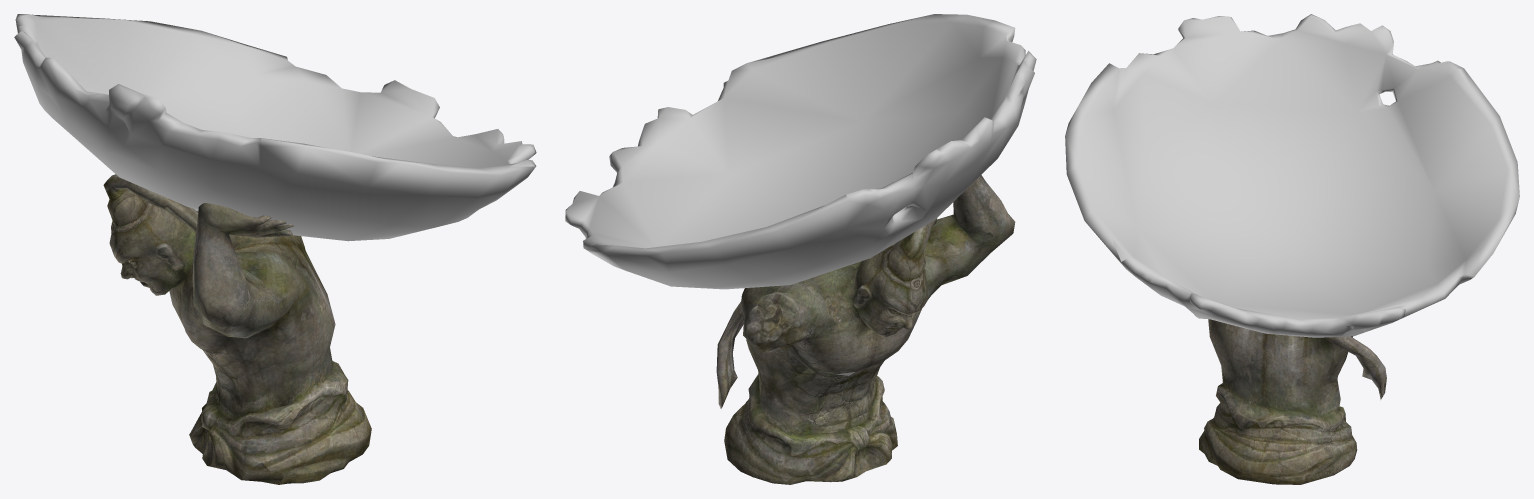
File: zc_shenxiangbj.FBX
The picture shows the model from 3 angles, left to right: view 1: azimuth 30°, elevation 25°; view 2: azimuth 150°, elevation 25°; view 3: azimuth 270°, elevation 25°; orthographic projection. The views are drawn at different scales.
Parts seen in each view (by area): view 1: SZ_floor_02_002_006, SZ_floor_02_002_007; view 2: SZ_floor_02_002_006, SZ_floor_02_002_007; view 3: SZ_floor_02_002_006, SZ_floor_02_002_007.
Boxes of the visible parts, x1,y1,x2,y2 form: SZ_floor_02_002_006: (14,14,536,241); SZ_floor_02_002_007: (103,174,371,484); SZ_floor_02_002_006: (565,14,1036,375); SZ_floor_02_002_007: (716,175,1015,484); SZ_floor_02_002_006: (1065,14,1519,337); SZ_floor_02_002_007: (1199,319,1386,484).
Size of the model in its own units: 2.9 by 2.75 by 3.15.
